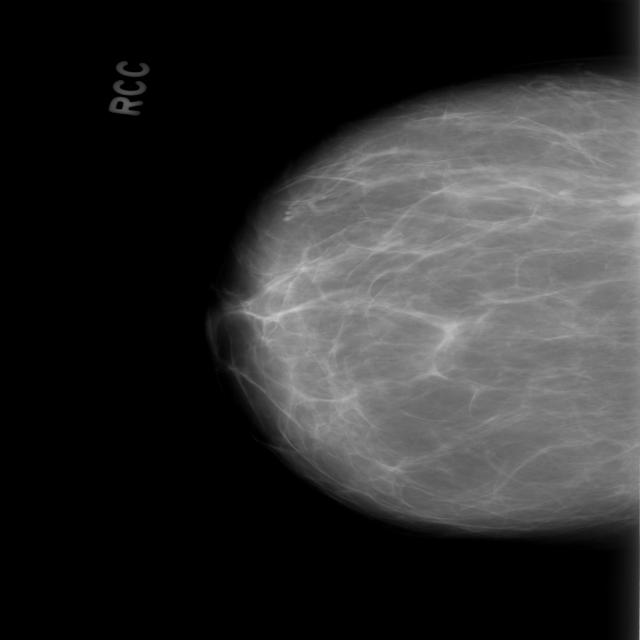normal: (206, 49, 640, 548)
